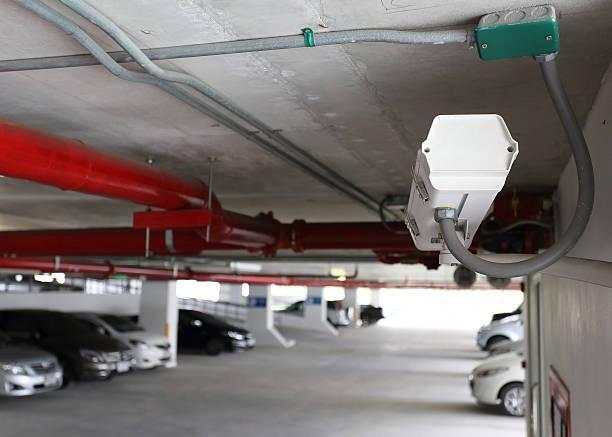camera: (359, 80, 550, 300)
